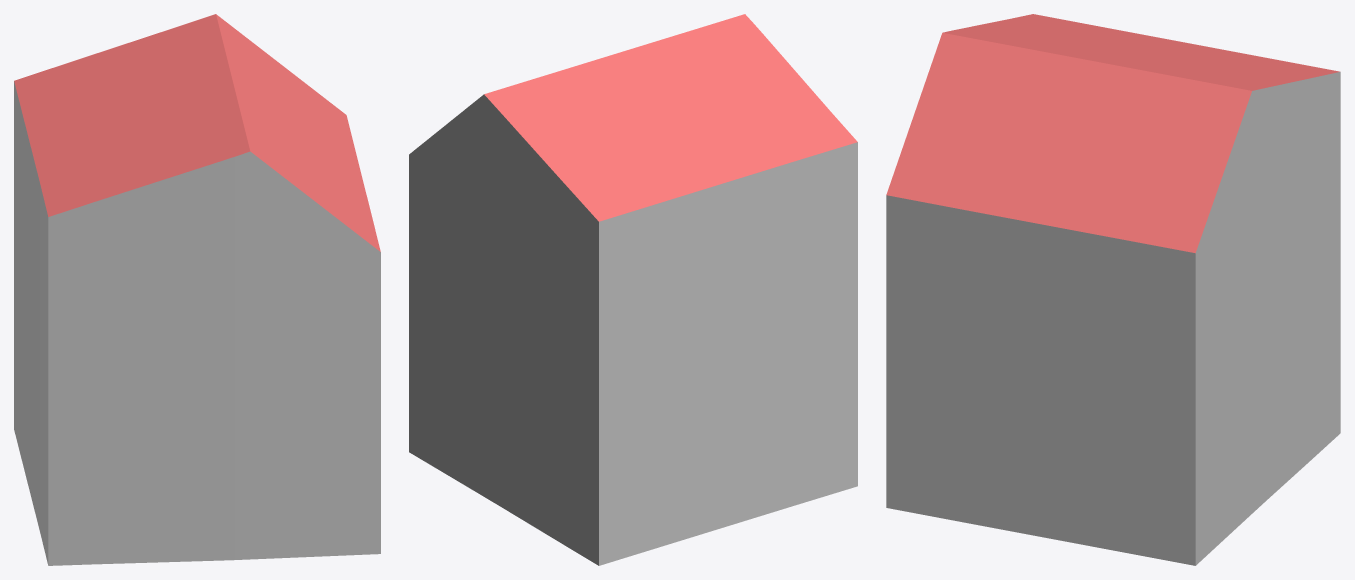
The model's file is DEBY_LOD2_4907159.gltf.
3 views of the same model, side by side, from view 1: azimuth 30°, elevation 25°; view 2: azimuth 150°, elevation 25°; view 3: azimuth 270°, elevation 25° (orthographic). The views are drawn at different scales.
Parts seen in each view (by area): view 1: Z_UP; view 2: Z_UP; view 3: Z_UP.
Part boxes in pixels (left/top/right/bottom): Z_UP: left=14, top=14, right=380, bottom=565; Z_UP: left=409, top=14, right=857, bottom=565; Z_UP: left=886, top=14, right=1340, bottom=565.
Size of the model in its own units: 19.01 by 19.68 by 19.17.
